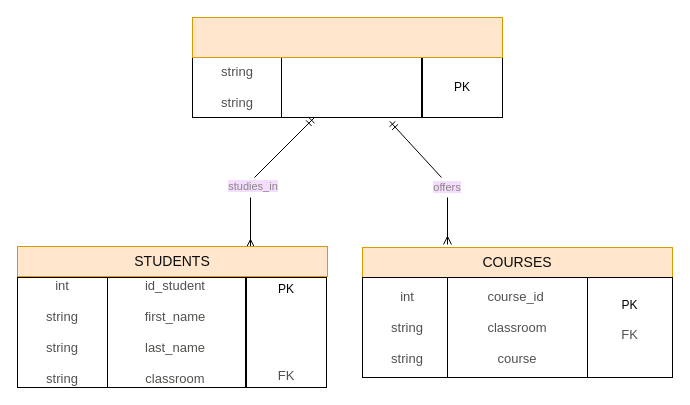
The diagram is 690 pixels wide and 405 high, and some of its shapes have lost their labels. Here are the shapes that lost their labels. From the top down, the box of each, then its label:
(192, 16, 502, 58): CLASSROOMS
(280, 56, 422, 118): classroom classroom_description
